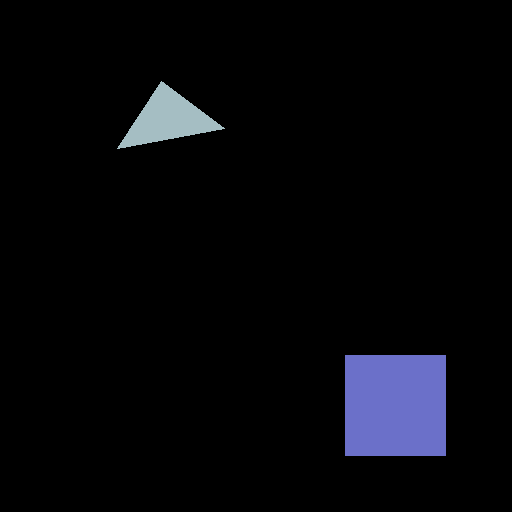square: (345, 355, 445, 455)
triangle: (117, 81, 224, 148)
